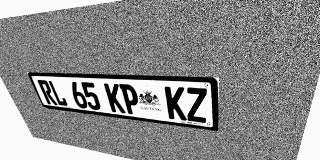5: (80, 82, 102, 110)
6: (68, 81, 89, 109)
K: (164, 86, 187, 121), (104, 83, 126, 113)
L: (47, 80, 69, 106)
P: (119, 84, 141, 115)
R: (37, 80, 58, 105)
Z: (185, 87, 207, 123)
